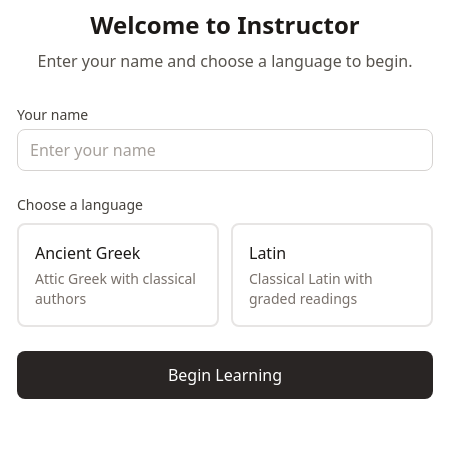
RegisterPage › shows error when name is empty
This screenshot has width=451, height=461.
Click the text "Latin". click: (268, 253)
box: [249, 242, 286, 264]
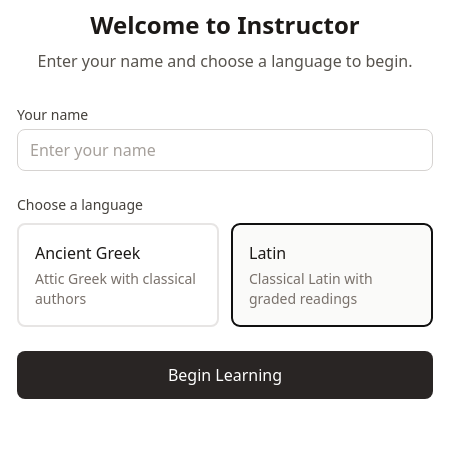
Click the button "Begin Learning". click: (225, 375)
box: [17, 351, 433, 399]
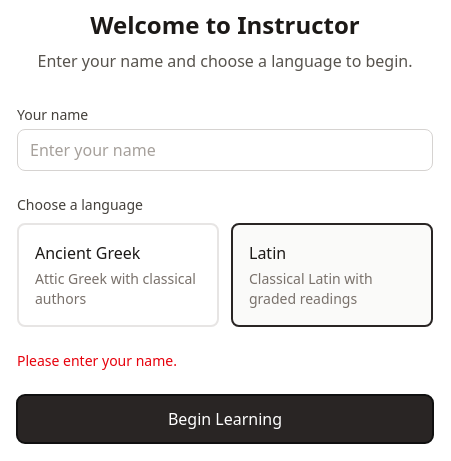
Result: the message shows "Please enter your name" at [17, 351, 177, 370]
